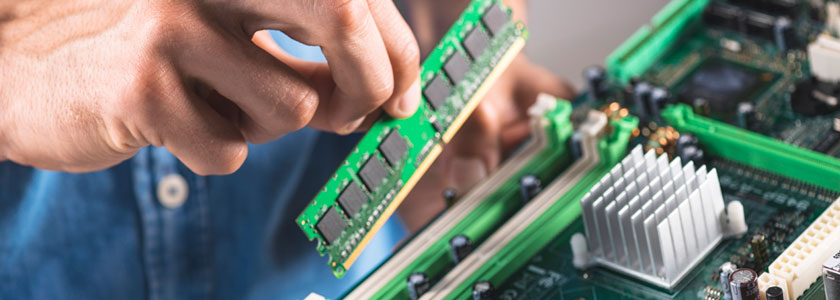ram: (292, 1, 534, 282)
